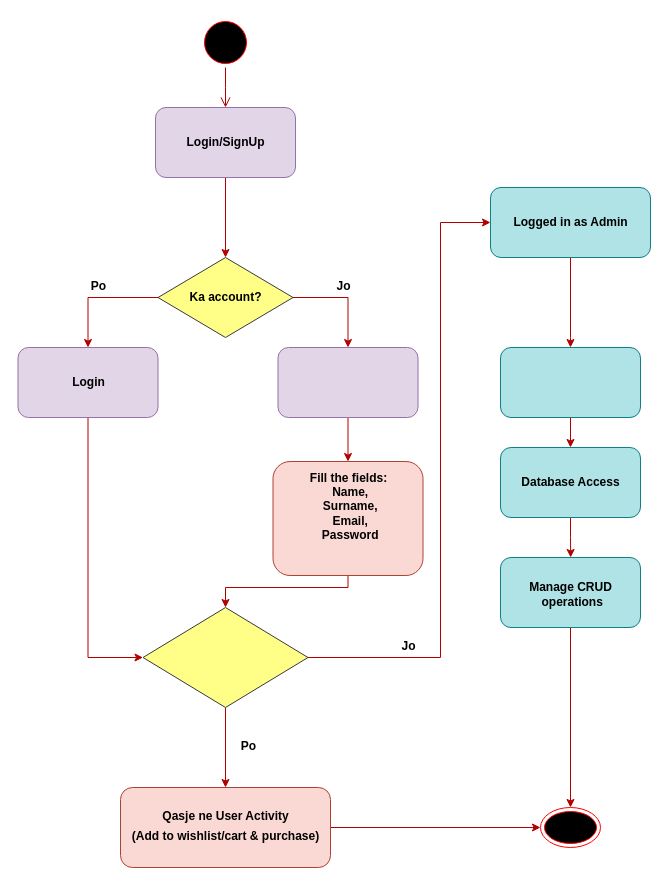
Some shapes in this 668 by 885 pixel diagram are drawn without their labels. Each missing label, with the box of its shape:
Admin Dashboard: (500, 346, 640, 418)
Eshte user i thjeshte?: (142, 606, 308, 708)
SignUp: (277, 346, 418, 418)
